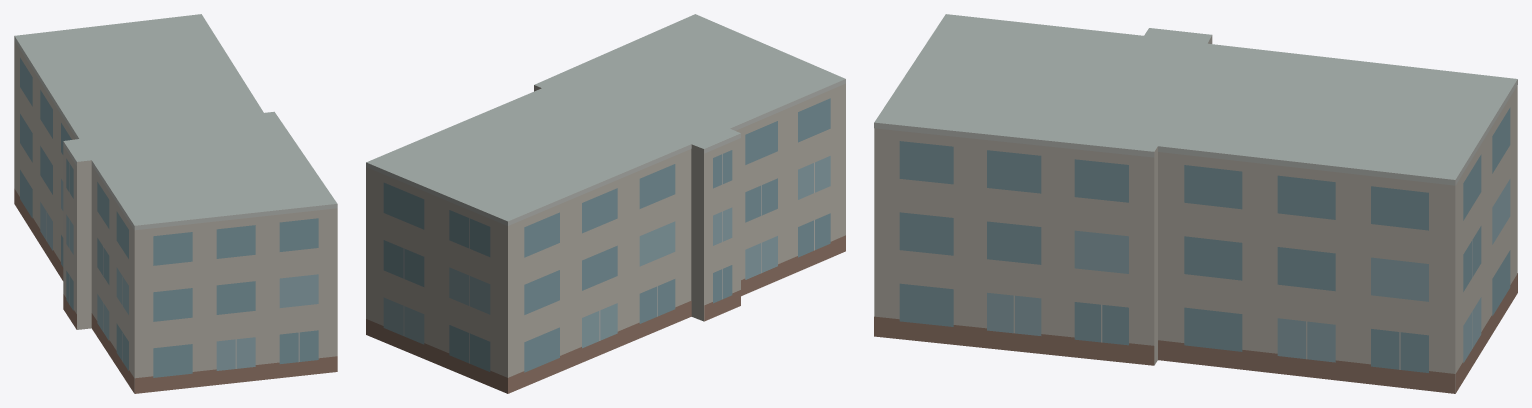
The model's file is survey-upis-32894979.glb.
The picture shows the model from 3 angles, left to right: view 1: azimuth 30°, elevation 25°; view 2: azimuth 150°, elevation 25°; view 3: azimuth 270°, elevation 25°; orthographic projection. The views are drawn at different scales.
Parts seen in each view (by area): view 1: survey-upis-32894979.tmp; view 2: survey-upis-32894979.tmp; view 3: survey-upis-32894979.tmp.
Boxes of the visible parts, x1=… form: survey-upis-32894979.tmp: x1=14, y1=14, x2=337, y2=393; survey-upis-32894979.tmp: x1=366, y1=14, x2=845, y2=393; survey-upis-32894979.tmp: x1=874, y1=14, x2=1517, y2=393.
Size of the model in its own units: 15.24 by 9.15 by 24.97.
